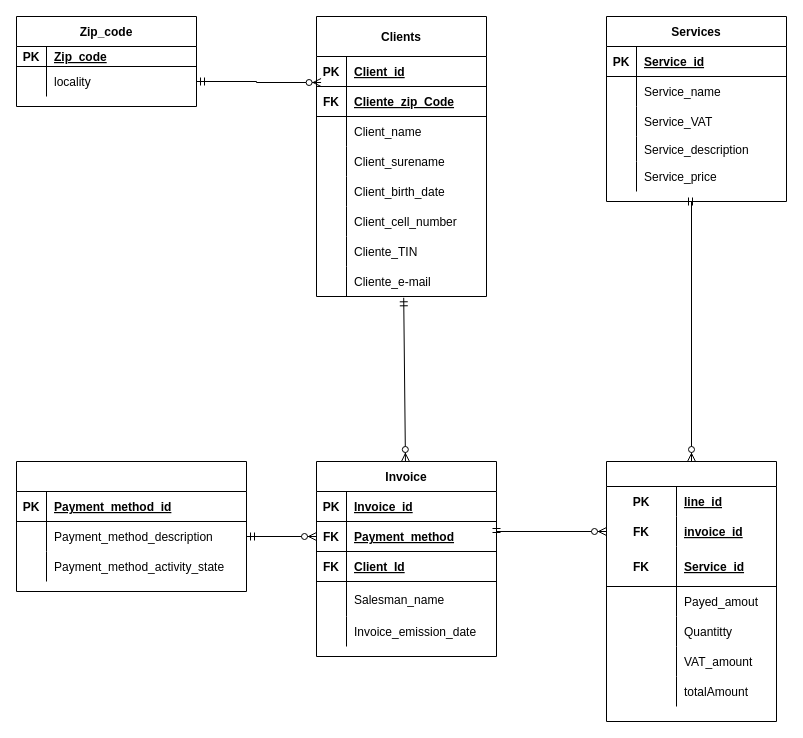
Image size: 803x738. Some labels were removed from this diagram. Each missing label, with the box of its shape:
Invoice_lines: (606, 460, 776, 722)
Payment_methods: (16, 460, 246, 592)
